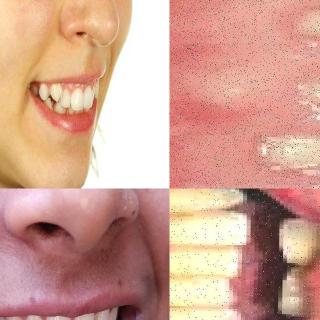Gum Swelling: (169, 0, 320, 188)
maligned: (50, 84, 62, 102), (93, 80, 99, 100)
